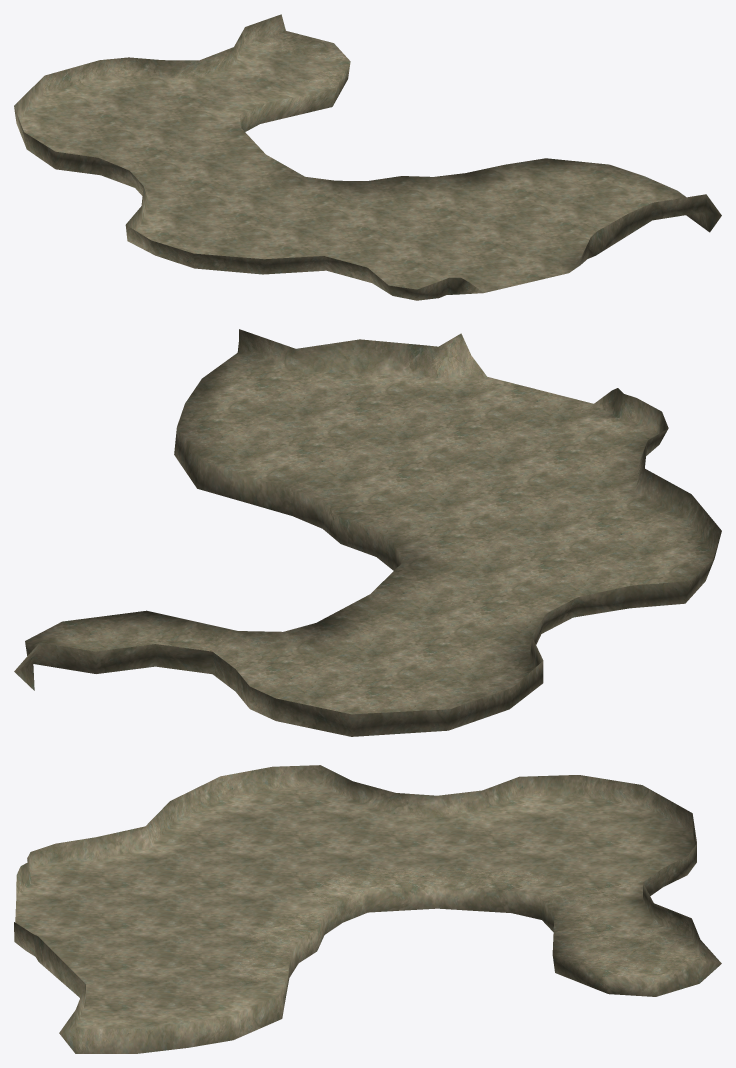
Rendered from OVERHILL_A_01_LINE203.fbx.
3 renders of one model, top to bottom at view 1: azimuth 30°, elevation 25°; view 2: azimuth 150°, elevation 25°; view 3: azimuth 270°, elevation 25°, orthographic. The views are drawn at different scales.
Parts seen in each view (by area): view 1: OVERHILL_A_01_LINE203; view 2: OVERHILL_A_01_LINE203; view 3: OVERHILL_A_01_LINE203.
Boxes of the visible parts, left/top/right/bottom form: OVERHILL_A_01_LINE203: left=14, top=14, right=721, bottom=300; OVERHILL_A_01_LINE203: left=14, top=329, right=721, bottom=736; OVERHILL_A_01_LINE203: left=14, top=765, right=721, bottom=1053.
Bounding box in the file's own units: 121647 × 12332 × 146182.
1 material, 1 textured.
